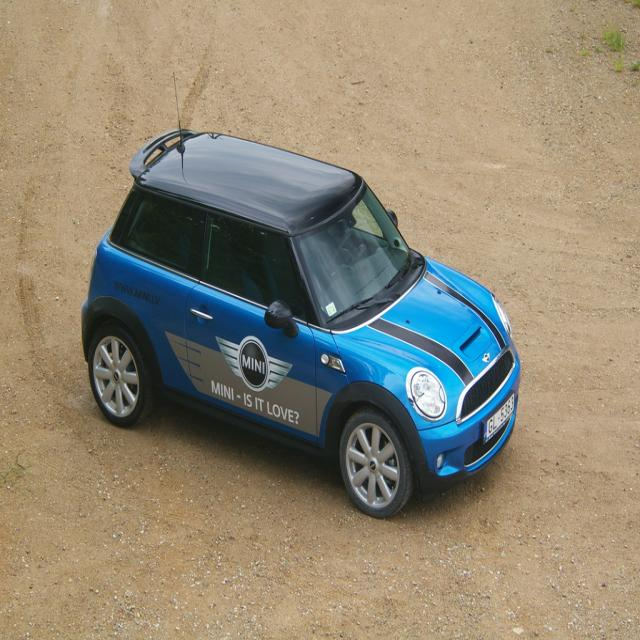car: (80, 67, 520, 517)
